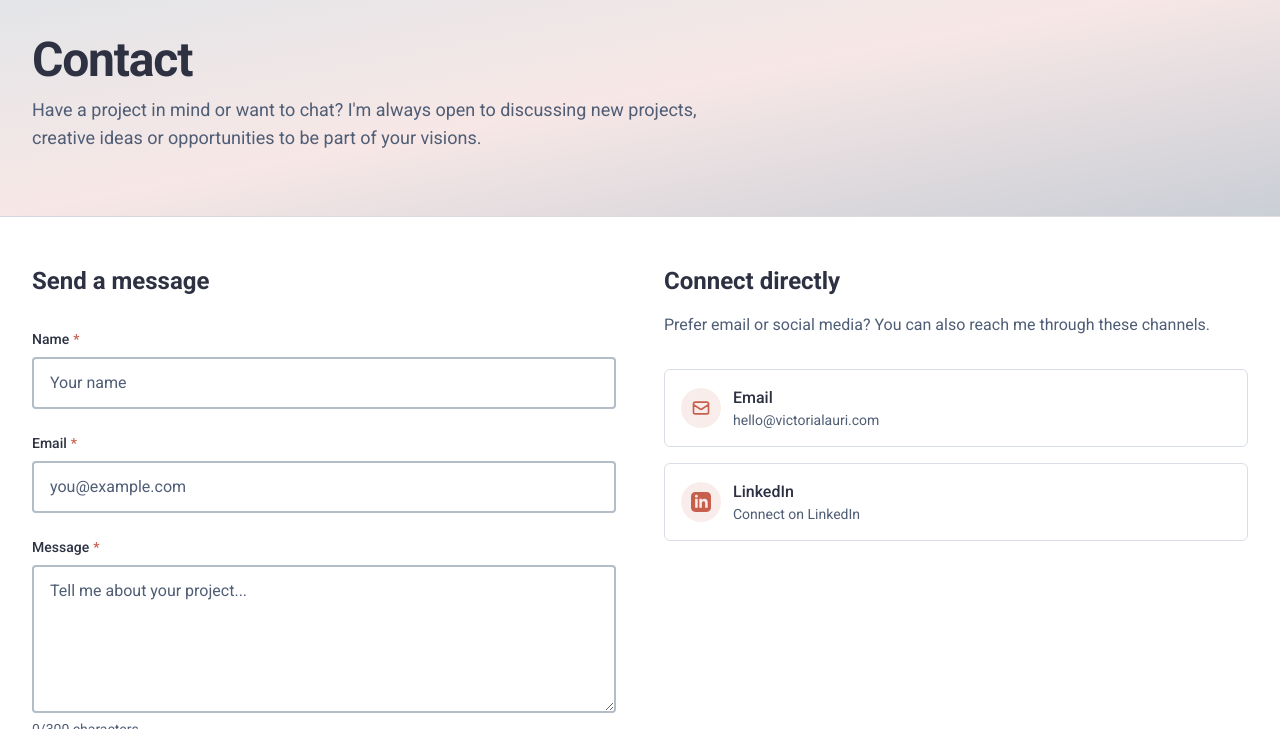
Test: ContactPage Form Validation › validates email format
In the field labelled "Email*": (324, 487) [32,461,616,513], type "invalid-email"
(page scrolled)
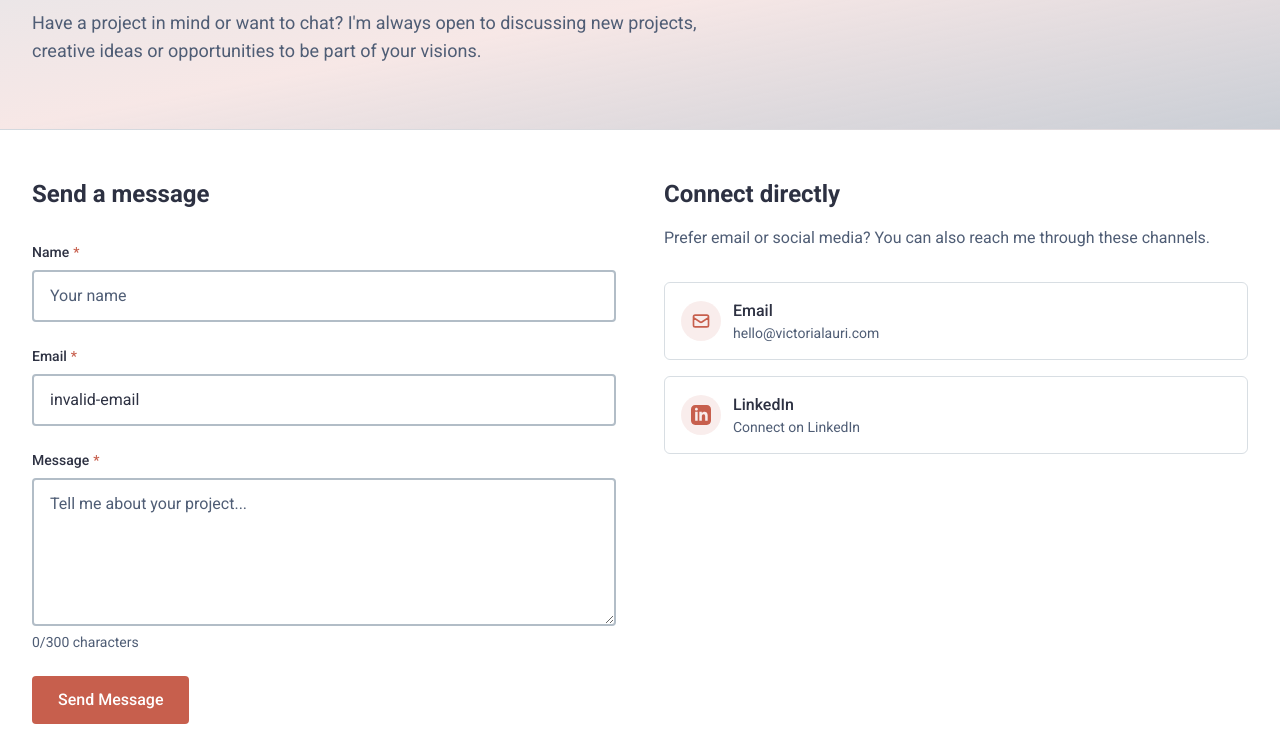
Click the button "Send Message": (111, 700) [32,676,190,724]
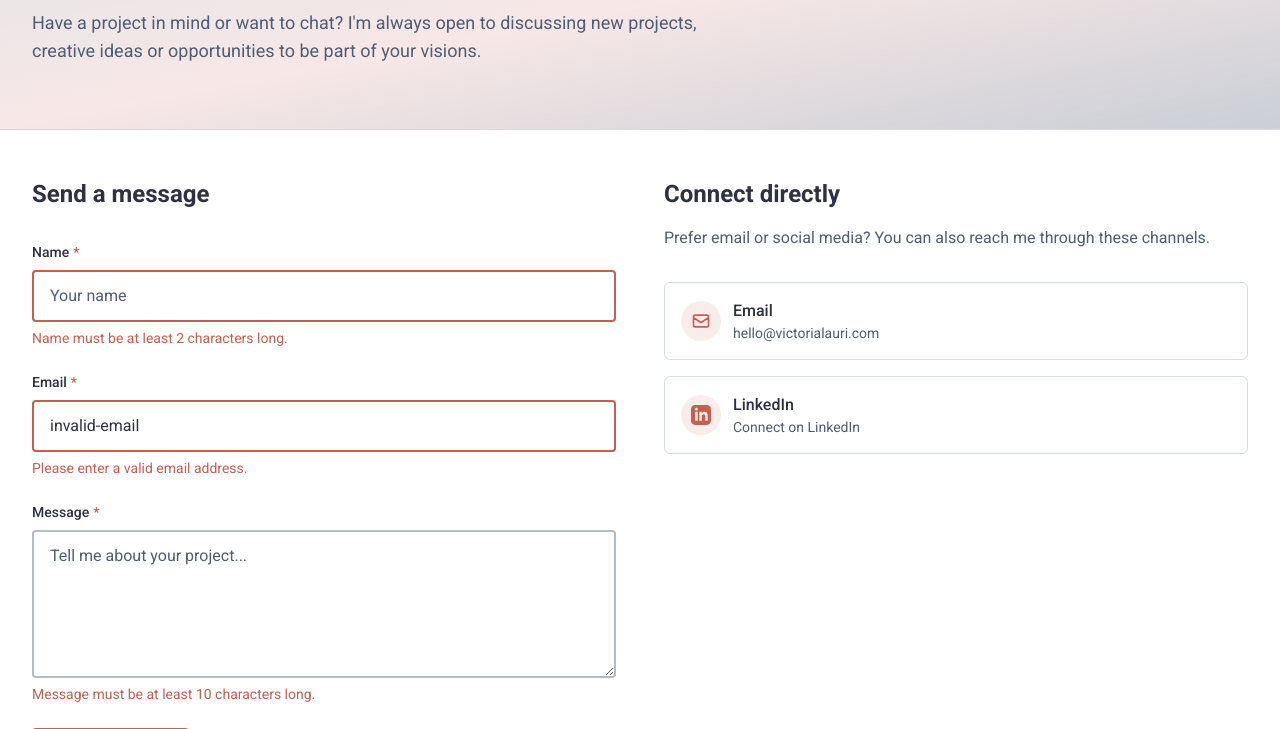
expect the text "Please enter a valid email address." is shown: met, box [32,460,248,476]
